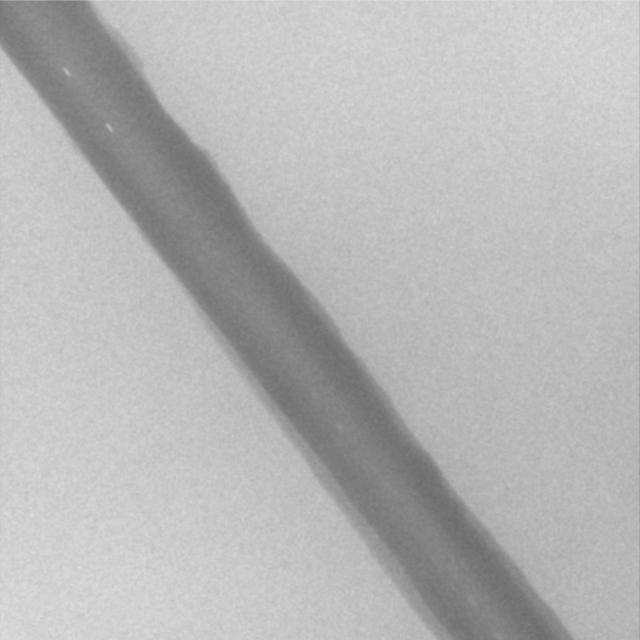air hole: (103, 119, 115, 134), (63, 67, 73, 78)
